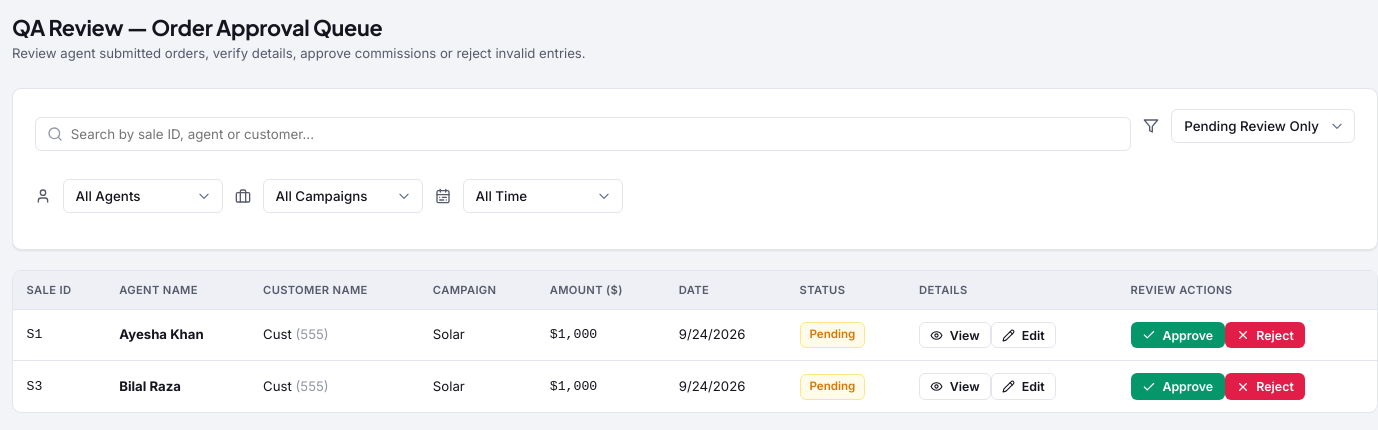
QASalesApproval agent filter › combines with the existing status and search filters rather than replacing them
The image size is (1378, 430).
Select "Ayesha Khan" in the dropdown named "filter by agent" at (143, 196), box [63, 179, 223, 213]
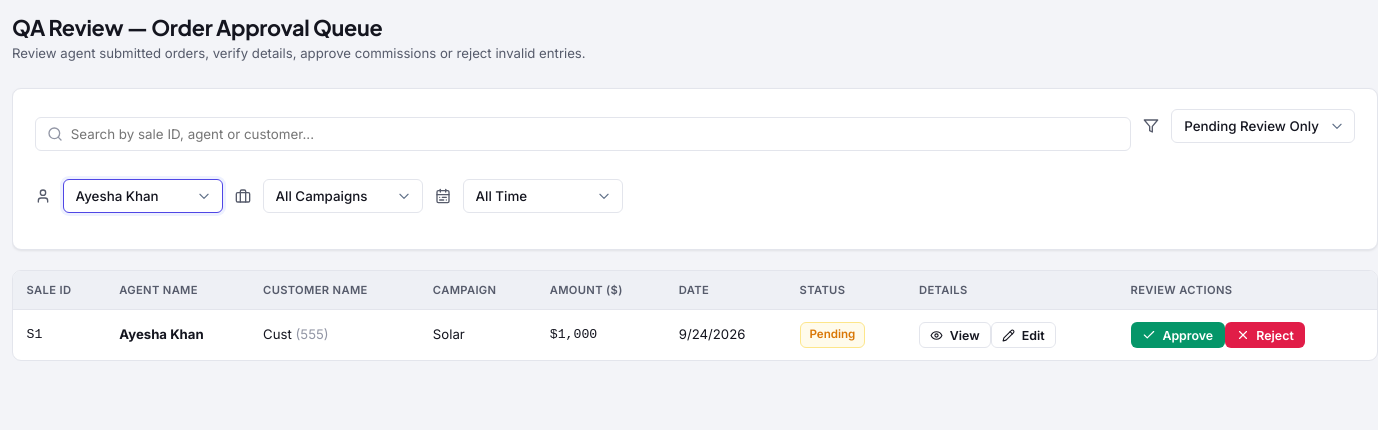
Check: the text "S1" is shown, box [13, 309, 106, 360]
Check: the text "S3" is gone
